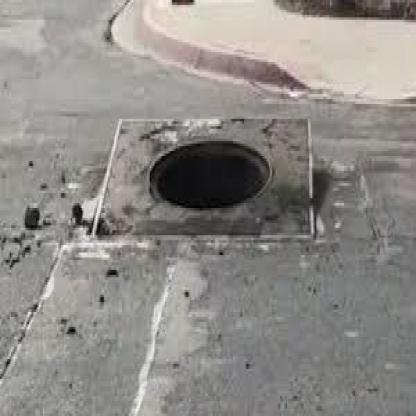manholes: (137, 106, 291, 235)
